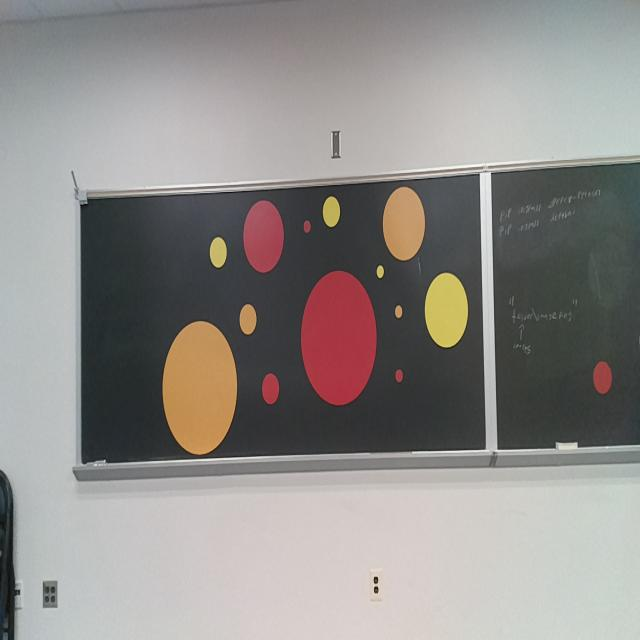Orange: (162, 319, 238, 455), (382, 185, 426, 261), (239, 303, 257, 336), (395, 304, 403, 319)
Red: (300, 269, 378, 407), (242, 200, 285, 276), (594, 360, 612, 393), (262, 373, 280, 405), (303, 219, 311, 234), (395, 368, 403, 383)
Yellow: (424, 270, 469, 348), (382, 185, 426, 261), (209, 235, 227, 268), (322, 195, 340, 228), (376, 265, 385, 280)
